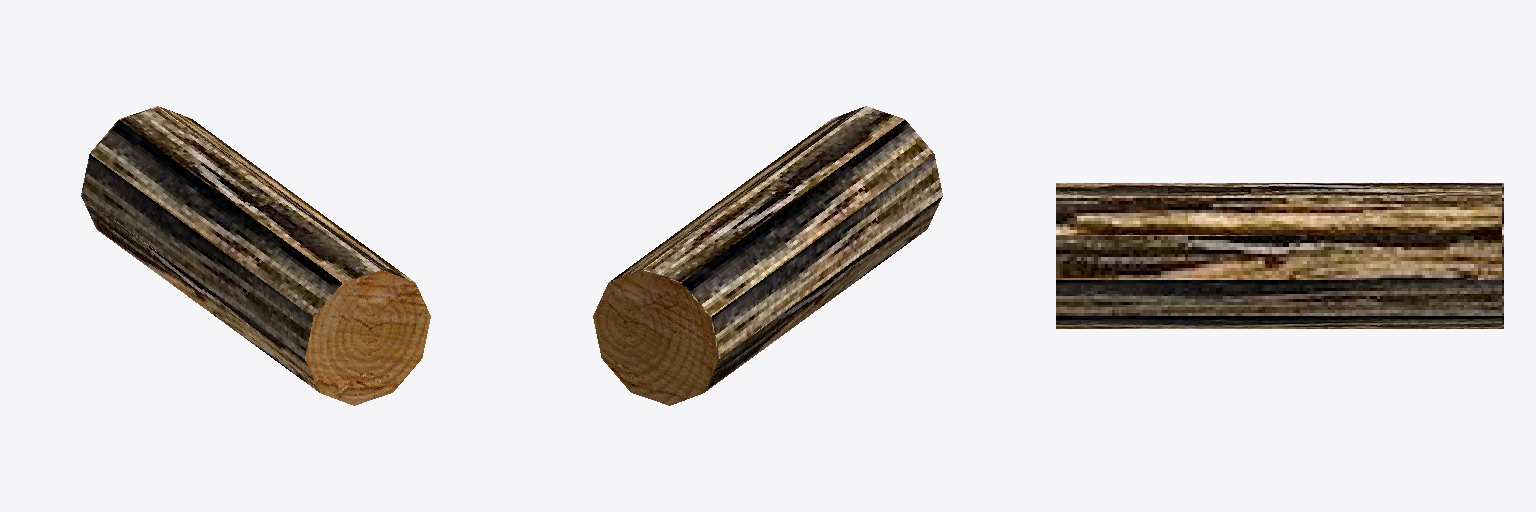
3 views of the same model, side by side, from view 1: azimuth 30°, elevation 25°; view 2: azimuth 150°, elevation 25°; view 3: azimuth 270°, elevation 25° (orthographic).
Visible parts, largest first — view 1: Mesh1 Model; view 2: Mesh1 Model; view 3: Mesh1 Model.
Part boxes in pixels (x1,y1,x2,y2): Mesh1 Model: (81, 106, 430, 405); Mesh1 Model: (593, 106, 942, 405); Mesh1 Model: (1056, 183, 1503, 328).
Size of the model in its own units: 41.83 by 41.02 by 129.
2 materials, 2 textured.